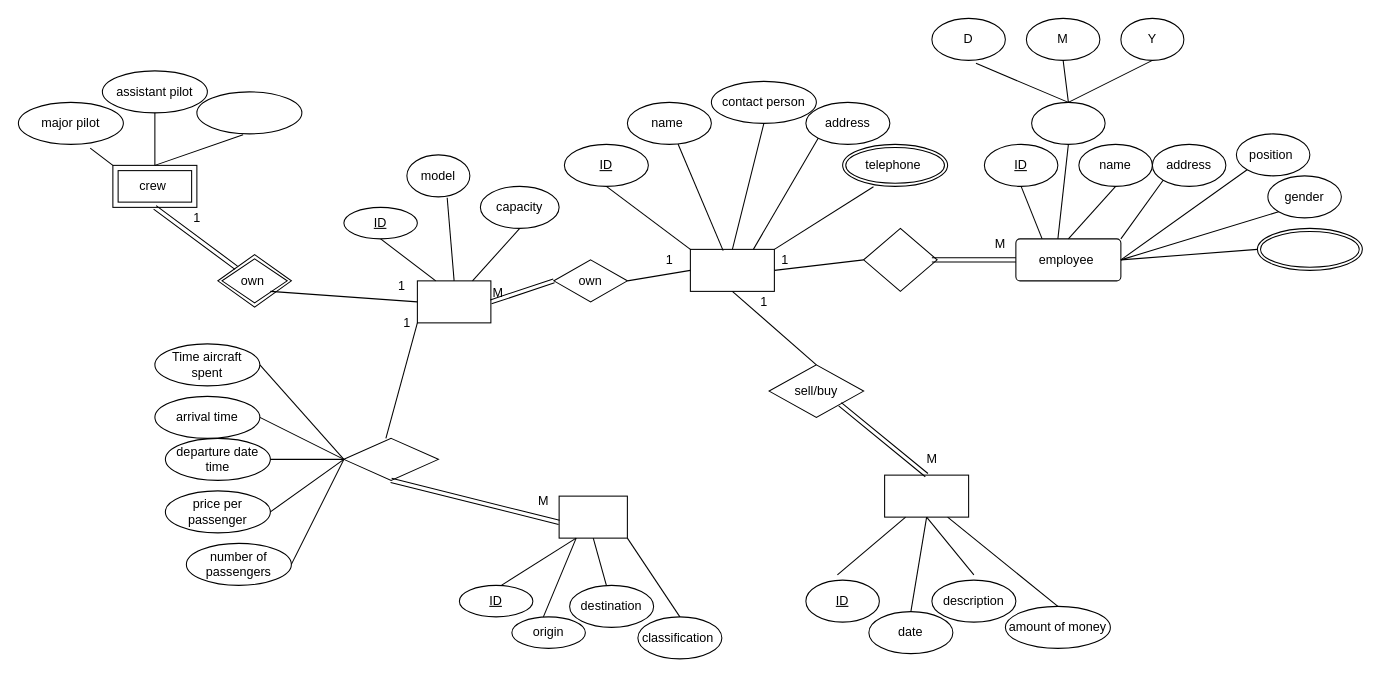
Image size: 1381x677. Some labels were removed from this diagram. The centre of each missing label's shape, as x and y in pixels:
aircraft: (x=453, y=301)
airline: (x=731, y=269)
and two hostesses: (x=249, y=112)
assigned: (x=390, y=458)
DOB: (x=1068, y=122)
qualifications: (x=1309, y=248)
routes: (x=592, y=516)
transactions: (x=926, y=495)
work: (x=900, y=259)
